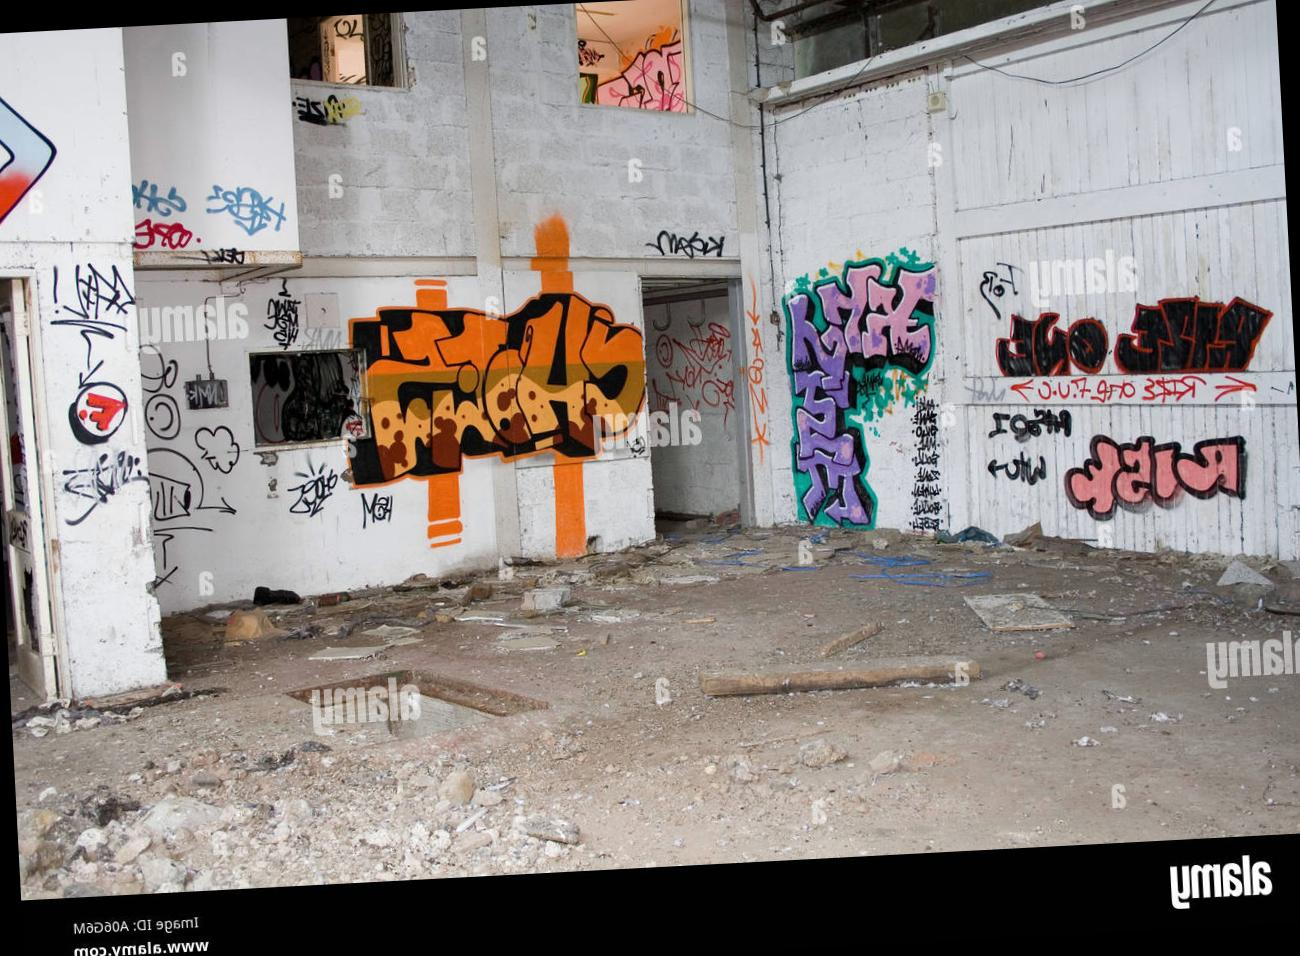graffiti: (339, 286, 646, 476), (777, 257, 953, 534), (990, 293, 1278, 381), (47, 271, 139, 530), (1064, 417, 1250, 531), (137, 444, 234, 595), (0, 69, 84, 240), (994, 363, 1268, 416), (638, 301, 744, 434), (566, 25, 684, 107), (975, 409, 1075, 487), (740, 276, 772, 462), (205, 180, 298, 242), (548, 459, 593, 562), (276, 95, 369, 139), (345, 475, 419, 529), (626, 226, 727, 263), (423, 470, 467, 552), (966, 260, 1032, 314), (267, 273, 309, 355), (129, 213, 199, 260), (280, 468, 338, 521), (536, 222, 576, 298), (193, 422, 243, 479), (119, 181, 184, 211), (406, 281, 452, 314), (194, 252, 248, 271)
trash: (15, 786, 144, 896), (690, 652, 977, 700), (833, 536, 987, 593), (10, 689, 134, 739), (971, 587, 1056, 645), (375, 576, 464, 624), (1153, 541, 1215, 590), (821, 619, 881, 661), (301, 637, 382, 668), (914, 525, 995, 556), (349, 614, 424, 646), (1213, 554, 1273, 594), (523, 580, 583, 619), (1100, 539, 1148, 583), (220, 609, 275, 640), (998, 528, 1044, 560), (478, 554, 531, 578), (156, 674, 200, 704), (1043, 543, 1094, 565), (992, 678, 1041, 700), (712, 506, 742, 528), (261, 589, 298, 607), (316, 592, 346, 612), (468, 581, 491, 609), (671, 518, 701, 532)
